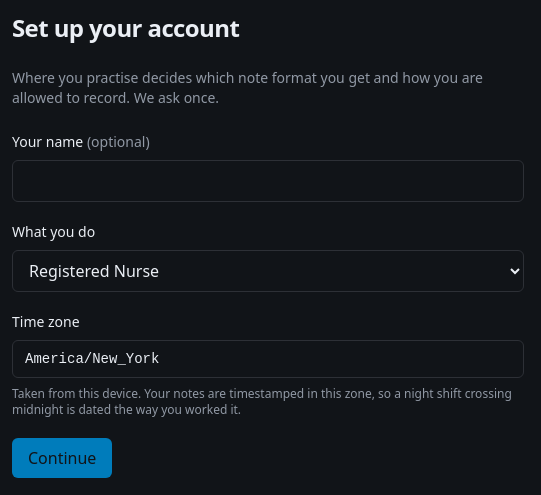
Onboarding › reports the United States regime for a US device
Select "Registered Nurse" in the dropdown labelled "What you do" at [268, 271], box x1=12 y1=250 x2=524 y2=292
Click the button "Continue" at [62, 458], box x1=12 y1=438 x2=112 y2=478
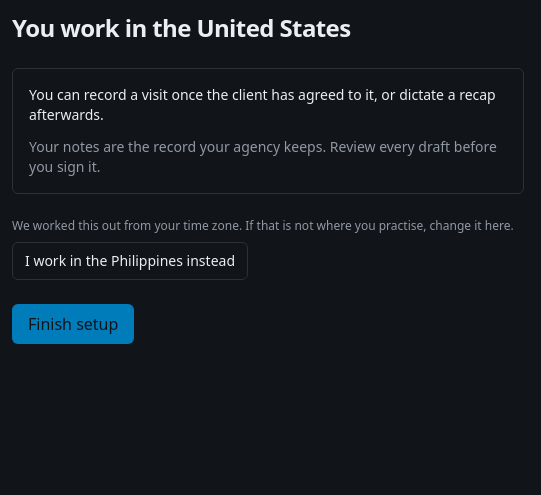
Now the heading "You work in the United States" is shown, box x1=12 y1=11 x2=350 y2=44
